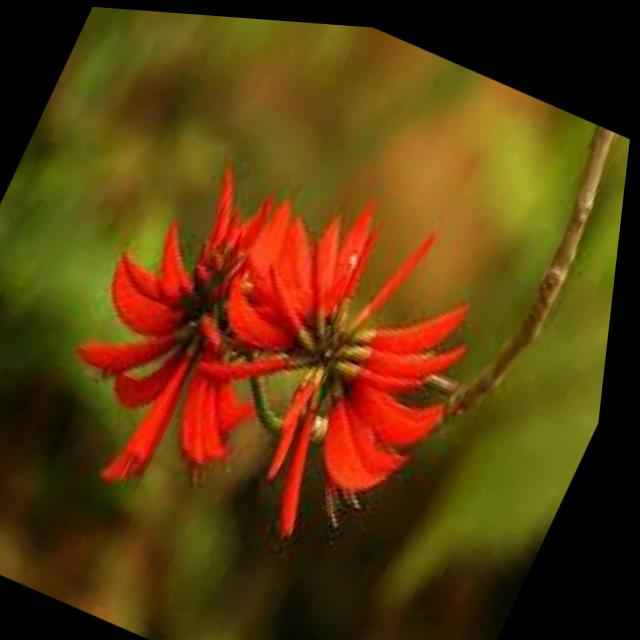Flower: (151, 141, 534, 593), (25, 120, 360, 534)
